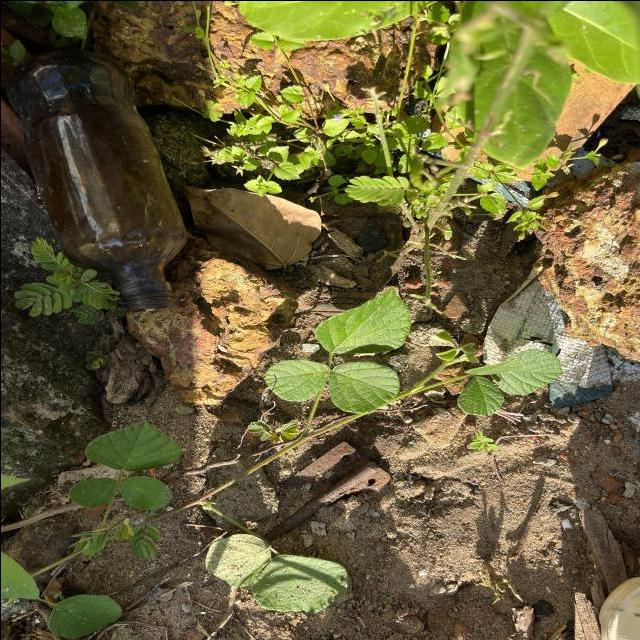Pseudarthria viscida: (260, 285, 412, 414), (66, 418, 183, 511)
